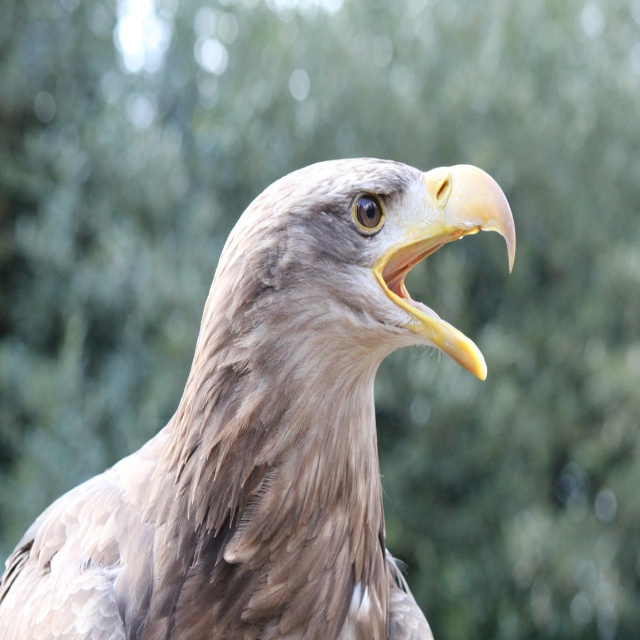Eagle: (0, 158, 516, 640)
